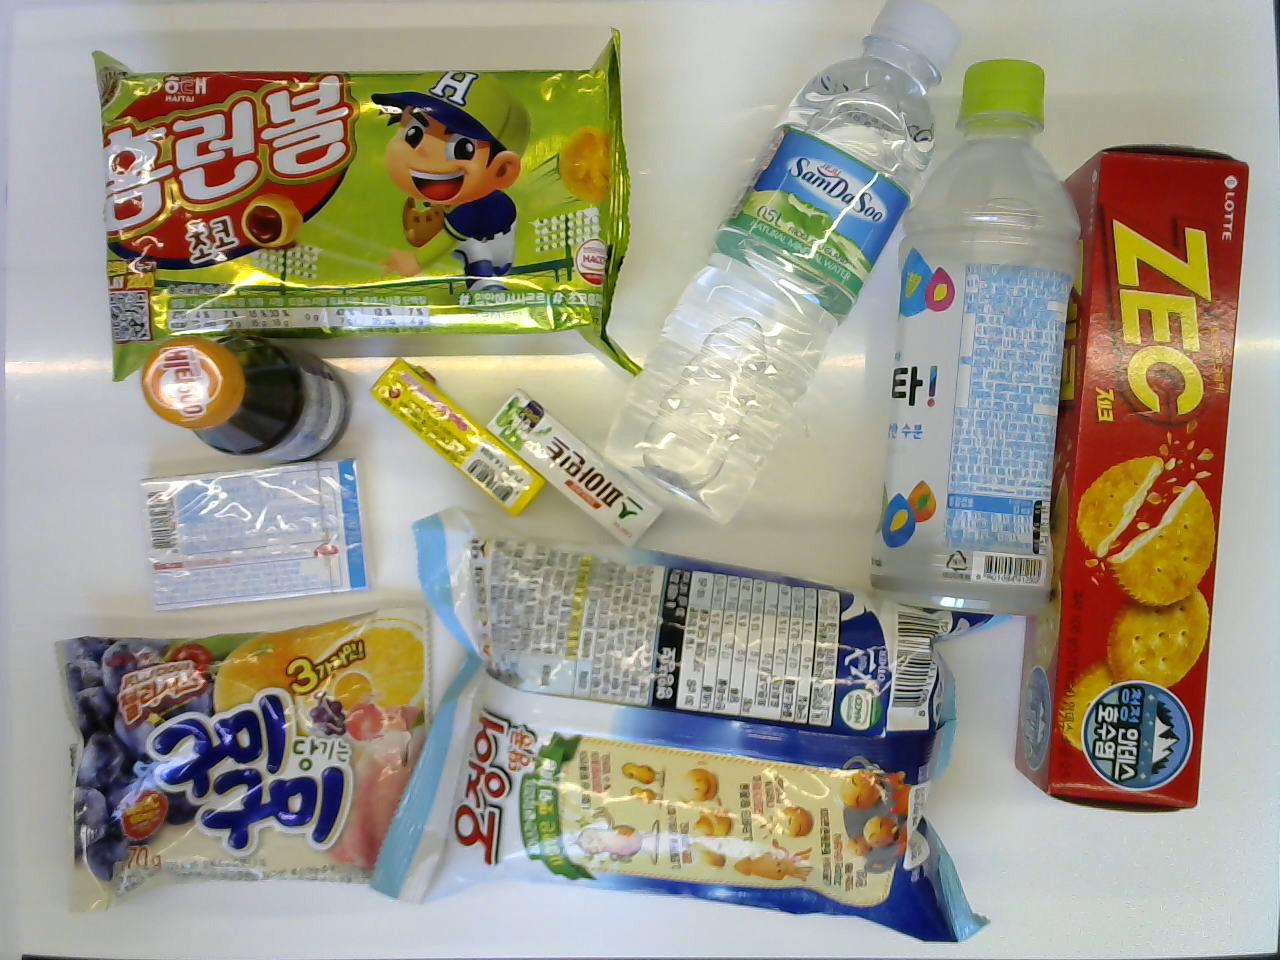ID_gum: (130, 456, 372, 605)
gumi_gumi: (51, 589, 454, 920)
homerunball: (92, 23, 653, 379)
juicyfresh: (366, 351, 545, 517)
samdasu: (603, 0, 959, 531)
spearmint: (484, 389, 667, 546)
squid_peanut: (374, 506, 1003, 938)
toreta: (866, 56, 1086, 620)
vita500: (139, 339, 350, 466)
zec: (1014, 141, 1248, 816)
